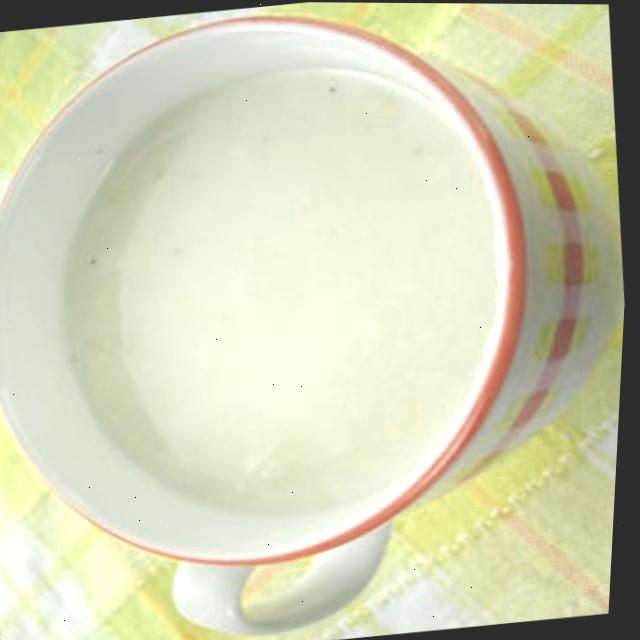汤锅炖物: (0, 0, 640, 605)
